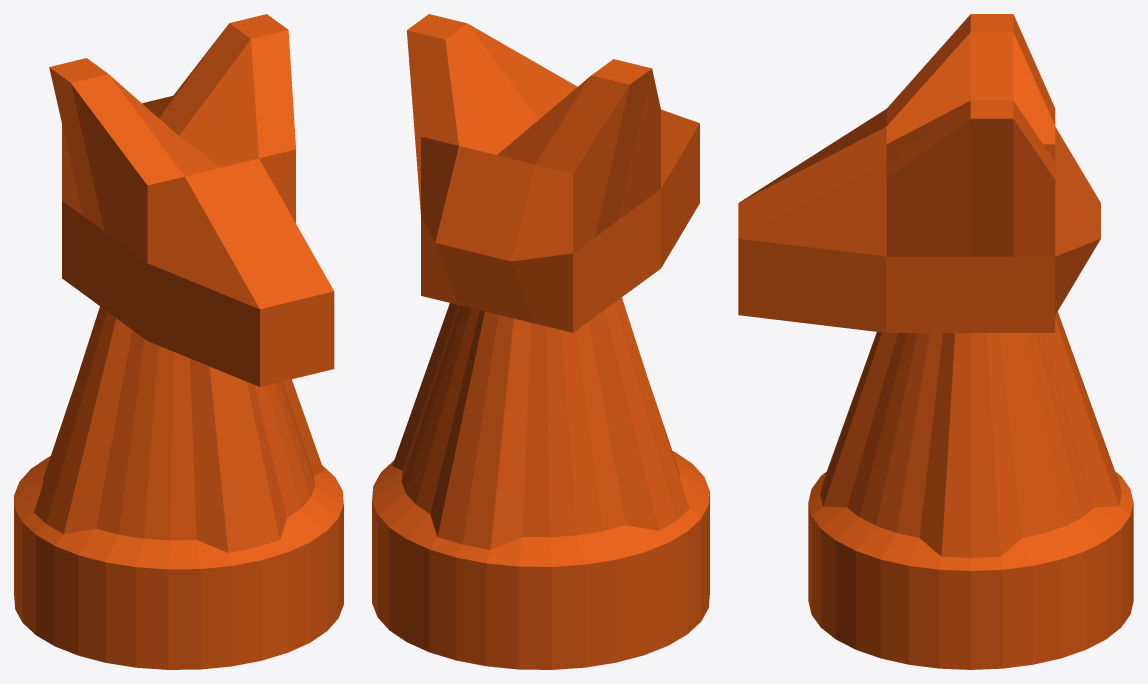
File: cavalo (1).fbx
3 renders of one model, left to right at view 1: azimuth 30°, elevation 25°; view 2: azimuth 150°, elevation 25°; view 3: azimuth 270°, elevation 25°, orthographic. The views are drawn at different scales.
Visible parts, largest first — view 1: Cylinder, Cube; view 2: Cylinder, Cube; view 3: Cylinder, Cube.
Boxes of the visible parts, left/top/right/bottom form: Cylinder: left=14, top=306, right=343, bottom=669; Cube: left=49, top=14, right=334, bottom=386; Cylinder: left=372, top=297, right=709, bottom=669; Cube: left=406, top=14, right=699, bottom=332; Cylinder: left=808, top=311, right=1133, bottom=669; Cube: left=738, top=14, right=1100, bottom=332.
Bounding box in the file's own units: 242 × 440 × 295.
